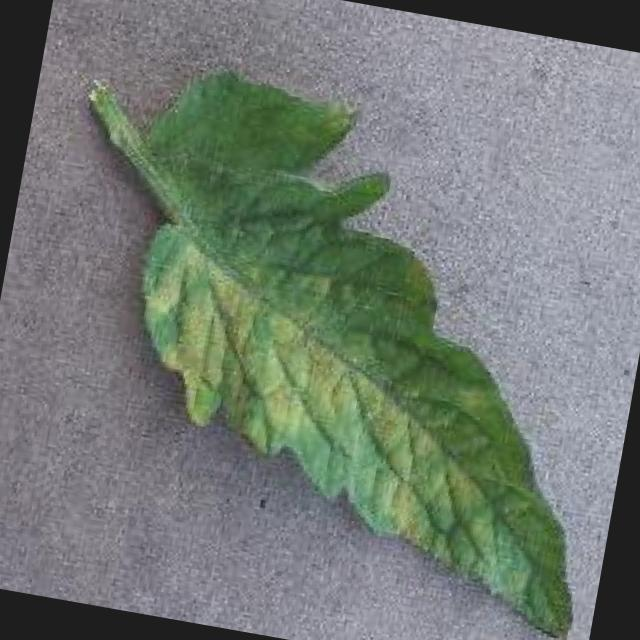leaf mold: (88, 73, 574, 640)
